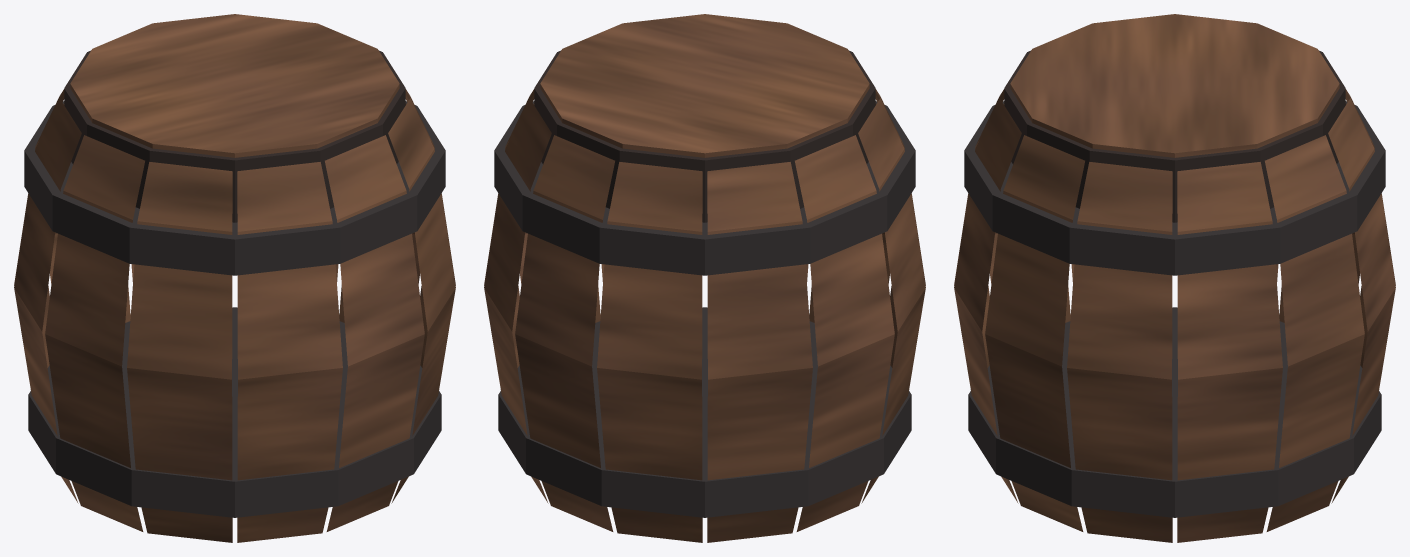
File: barrel.glb
3 renders of one model, left to right at view 1: azimuth 30°, elevation 25°; view 2: azimuth 150°, elevation 25°; view 3: azimuth 270°, elevation 25°, orthographic.
Visible parts, largest first — view 1: Barrel; view 2: Barrel; view 3: Barrel.
Part boxes in pixels (x1,y1,x2,y2): Barrel: [14, 14, 455, 542]; Barrel: [484, 14, 925, 542]; Barrel: [954, 14, 1395, 542].
Bounding box in the file's own units: 0.9519 × 0.912 × 0.9519.
3 materials, 1 textured.
